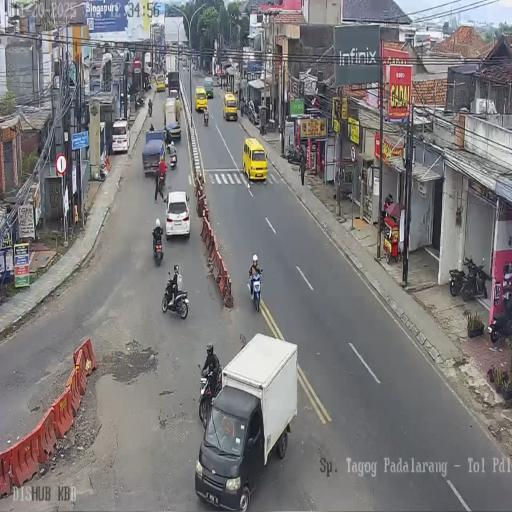3: (192, 335, 295, 509), (163, 97, 181, 142)
car: (164, 190, 190, 238), (243, 137, 267, 182), (142, 129, 165, 175), (111, 118, 129, 155), (222, 92, 238, 122), (247, 99, 259, 125), (195, 91, 208, 113), (204, 77, 214, 99), (156, 74, 165, 92), (168, 88, 178, 100), (164, 74, 169, 88), (182, 57, 186, 68)
truck: (198, 358, 224, 426), (161, 269, 189, 318), (460, 255, 488, 301), (488, 297, 512, 342), (248, 268, 262, 312), (152, 227, 164, 264), (286, 143, 302, 166), (166, 141, 177, 169), (159, 161, 167, 186), (135, 92, 144, 110), (240, 98, 249, 116), (203, 108, 208, 126), (148, 100, 152, 116)
